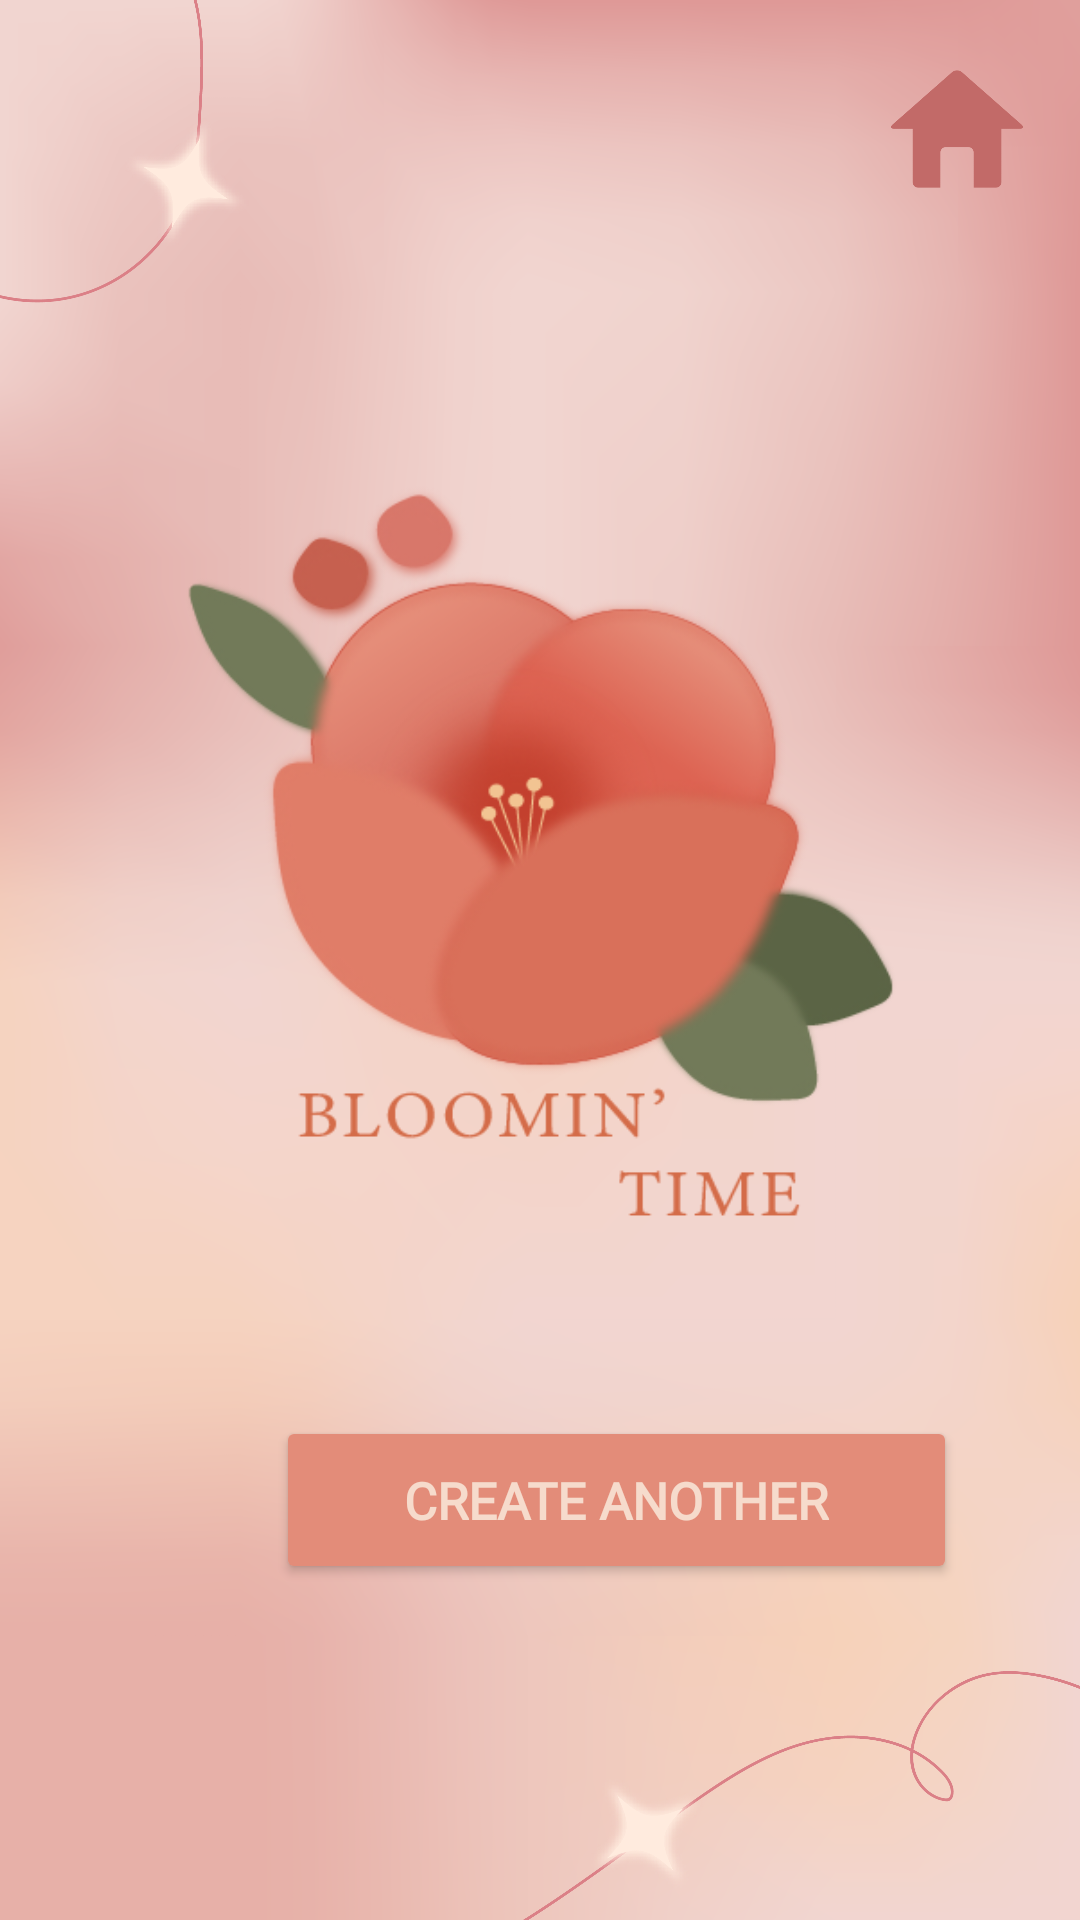

Point at icon controls on the screen. Image size 1080px×1920px, points as (x,y).
home darkicon: (957,129)
